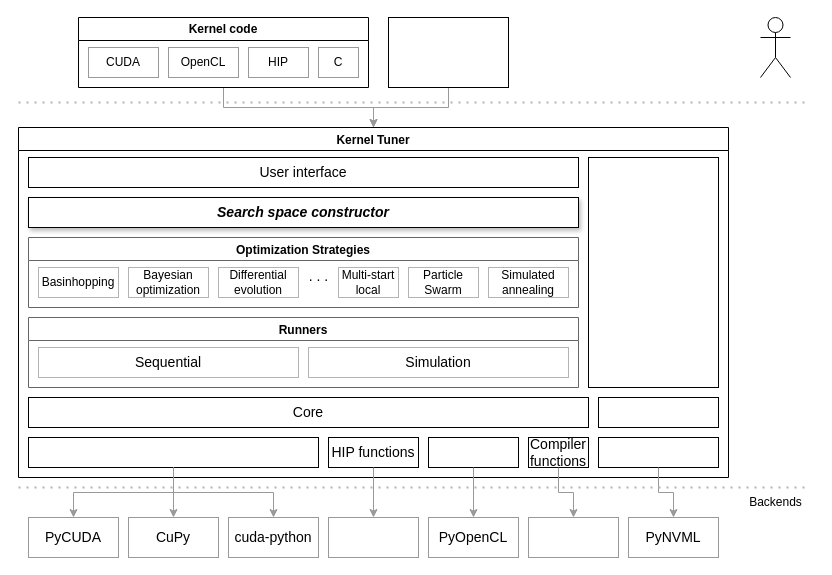
This 832x575 diagram has some shape labels left out. Each missing label, with the centre of its shape:
CUDA functions: point 173,452
GCC / GFortran: point 573,537
kernel_tuner.nvml: point 658,452
NVMLObserver: point 658,412
Observers: point 653,272
OpenCL functions: point 473,452
PyHIP: point 373,537
Python script: point 448,52
User input: point 775,47
